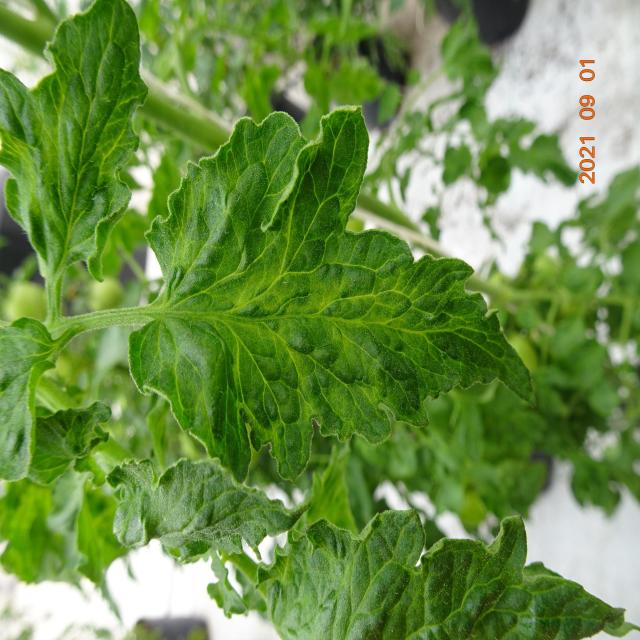T_L_R: (130, 109, 534, 481), (1, 1, 149, 323), (259, 511, 630, 639), (109, 459, 310, 563)
